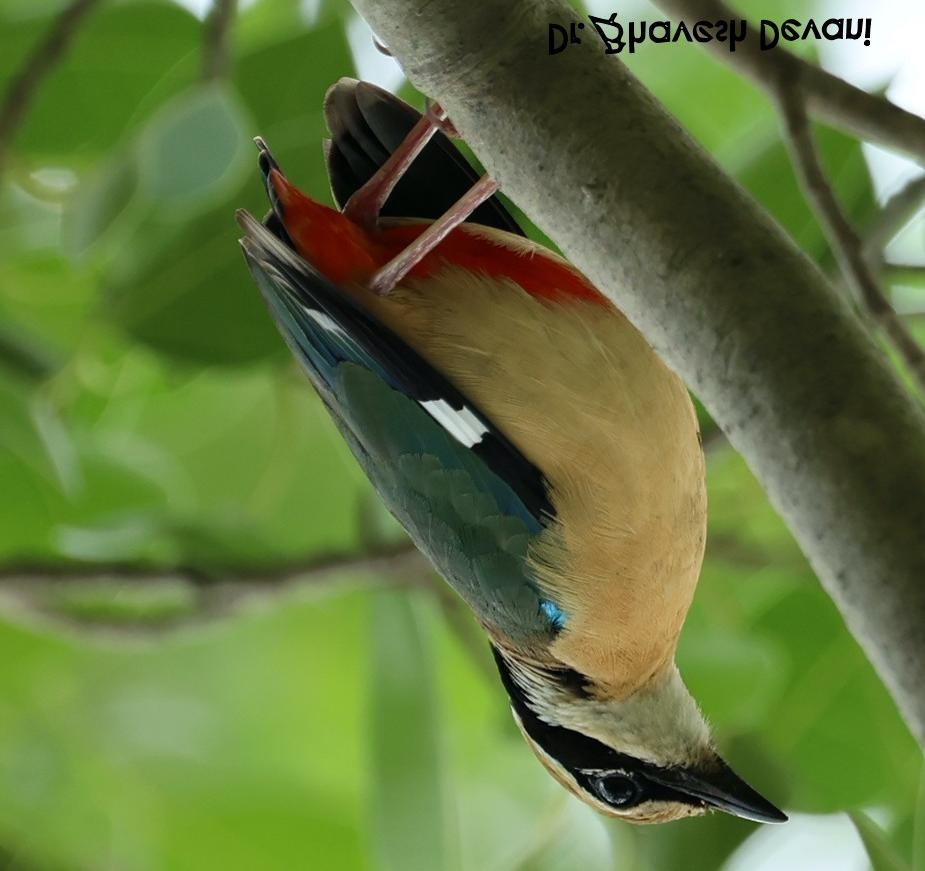pitta: (237, 90, 891, 871)
